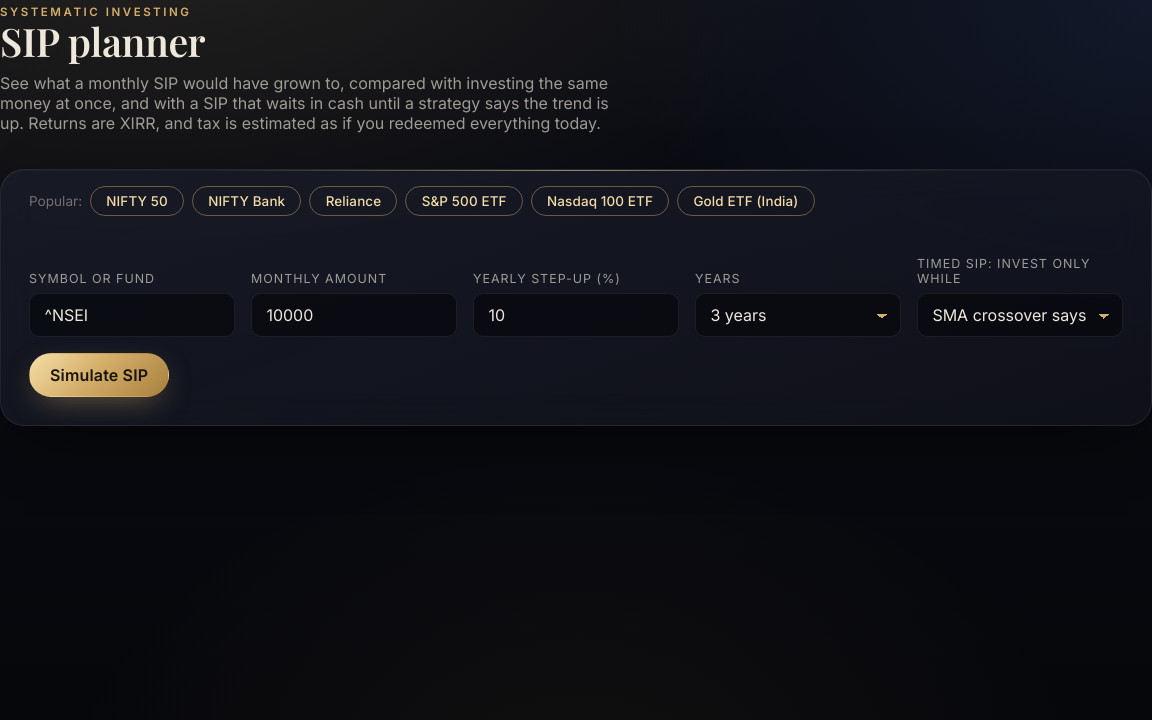
Scenario: SIP, options and leaderboard pages › sends SIP settings and shows XIRR
The image size is (1152, 720).
Replace the text in the number field labelled "Monthly amount" with "5000" at (354, 315), box [251, 293, 457, 337]
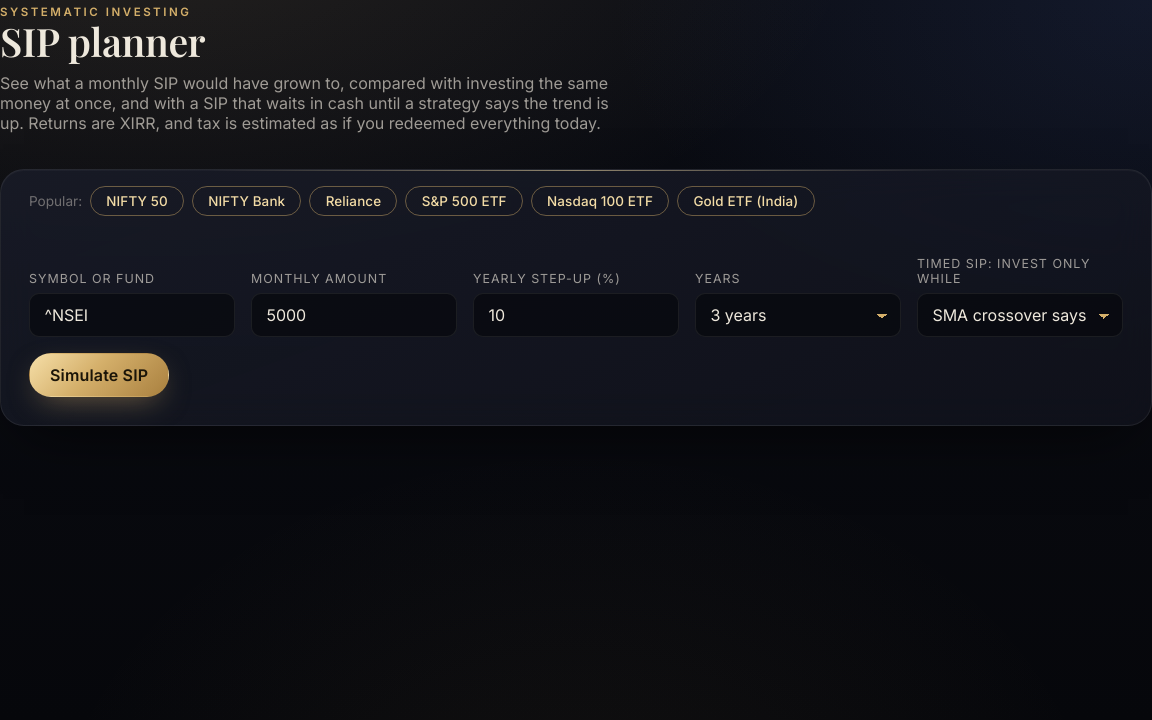
Click the button "Simulate SIP".
click(99, 375)  # box [29, 353, 169, 397]
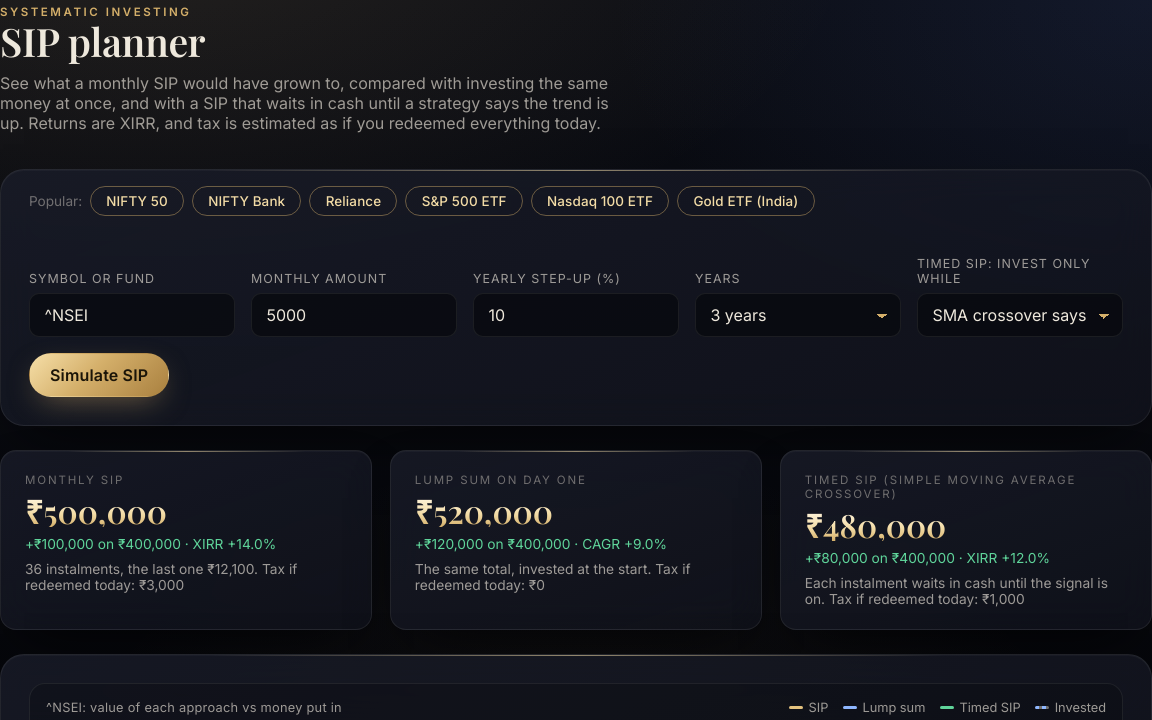
Now the text "+₹100,000 on ₹400,000 · XIRR +14.0%" is shown, box [25, 536, 276, 552]
